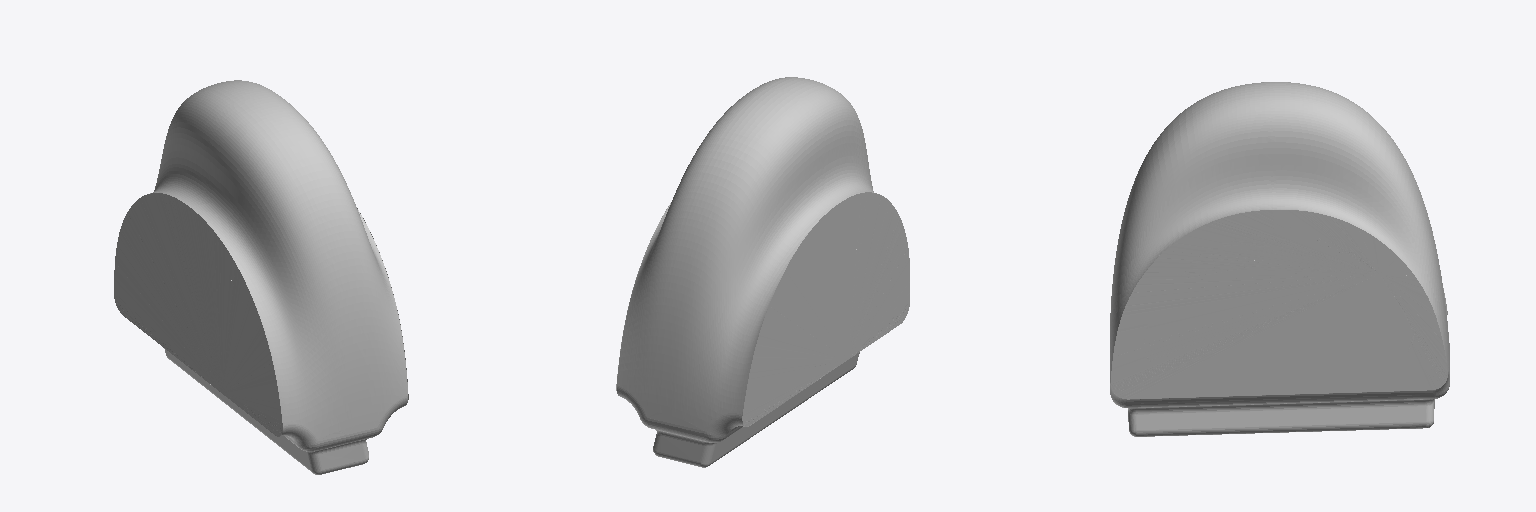
File: CAD softgripper_slice3.obj
3 views of the same model, side by side, from view 1: azimuth 30°, elevation 25°; view 2: azimuth 150°, elevation 25°; view 3: azimuth 270°, elevation 25° (orthographic).
Visible parts, largest first — view 1: SG.AN.F1.006; view 2: SG.AN.F1.006; view 3: SG.AN.F1.006.
Part boxes in pixels (x1,y1,x2,y2): SG.AN.F1.006: (114,80,408,474); SG.AN.F1.006: (616,77,909,467); SG.AN.F1.006: (1110,82,1449,436).
Size of the model in its own units: 0.0093 by 0.0212 by 0.02.